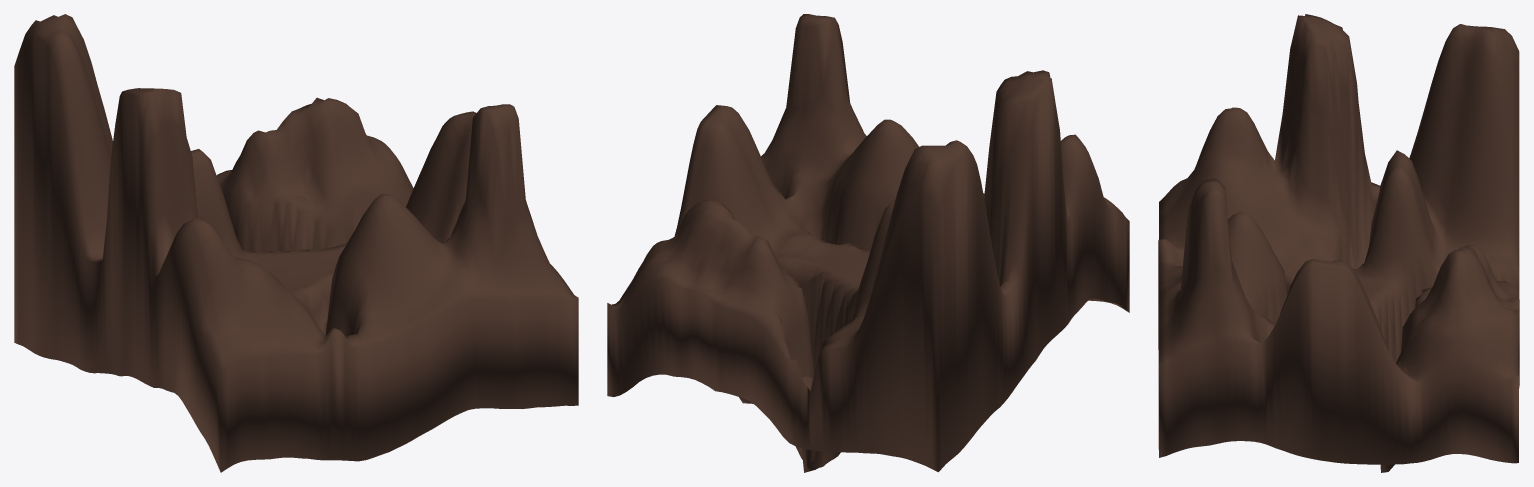
File: ground.fbx
3 renders of one model, left to right at view 1: azimuth 30°, elevation 25°; view 2: azimuth 150°, elevation 25°; view 3: azimuth 270°, elevation 25°, orthographic. The views are drawn at different scales.
Visible parts, largest first — view 1: ground; view 2: ground; view 3: ground.
Part boxes in pixels (bbox=[...]): ground: bbox=[14, 14, 578, 472]; ground: bbox=[607, 14, 1129, 472]; ground: bbox=[1158, 14, 1519, 472].
Bounding box in the file's own units: 30103 × 31285 × 30153.
